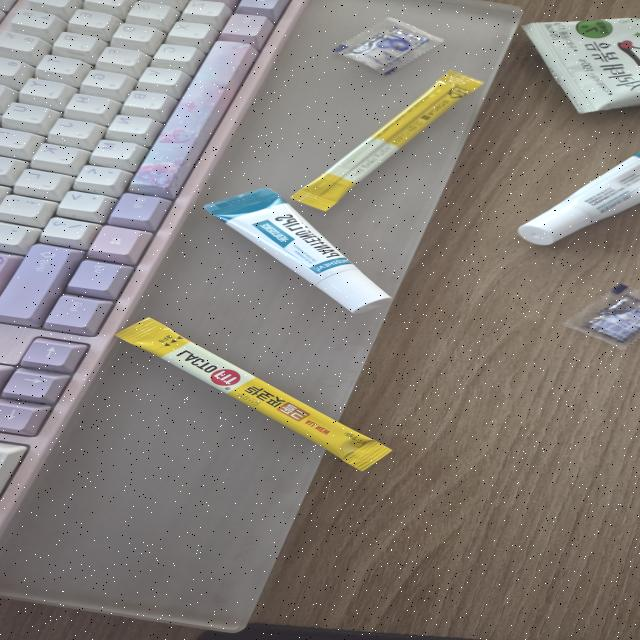lacto: (116, 311, 394, 484), (288, 68, 486, 211)
lib: (198, 187, 396, 315), (515, 150, 640, 247)
salt: (328, 18, 444, 77), (560, 282, 640, 354)
